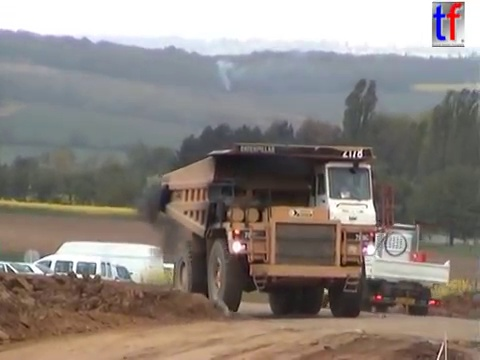truck: (144, 138, 396, 319), (302, 217, 452, 316)
